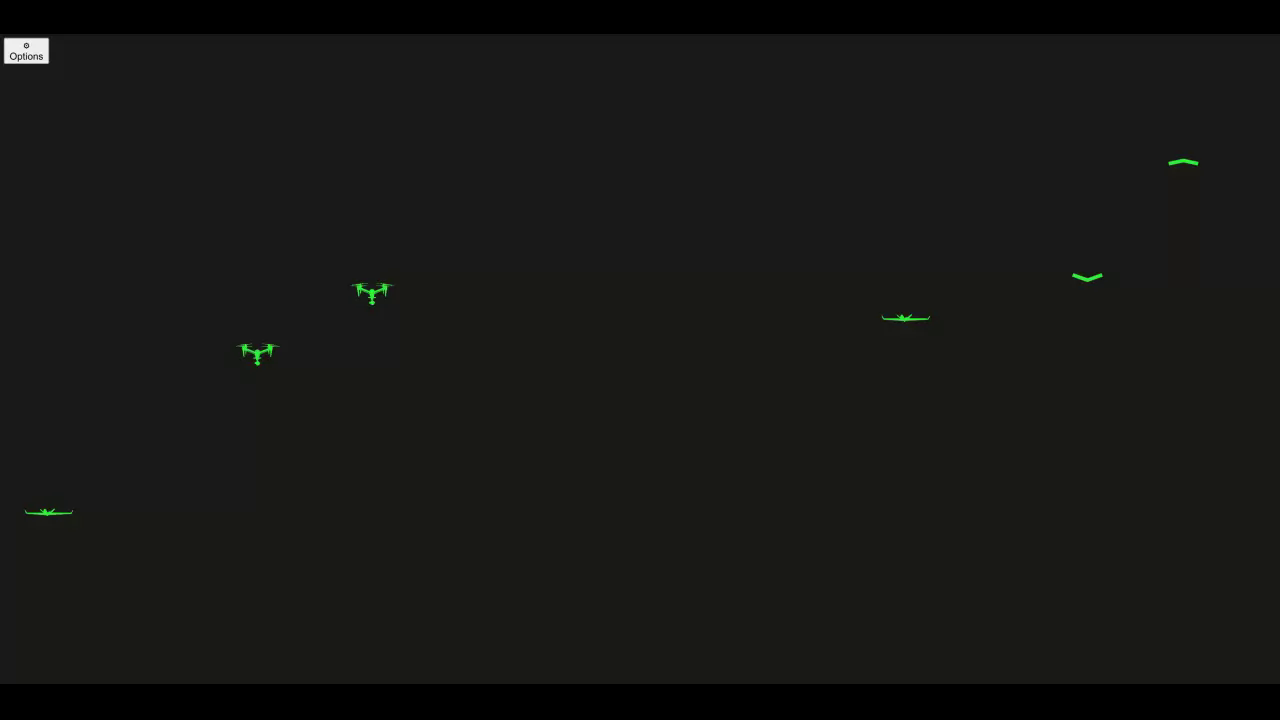Bird: (1063, 266, 1118, 304), (1157, 148, 1209, 185)
Drone: (13, 490, 83, 533), (874, 301, 933, 338)
Quadcopter: (339, 266, 402, 317), (229, 331, 292, 374)
